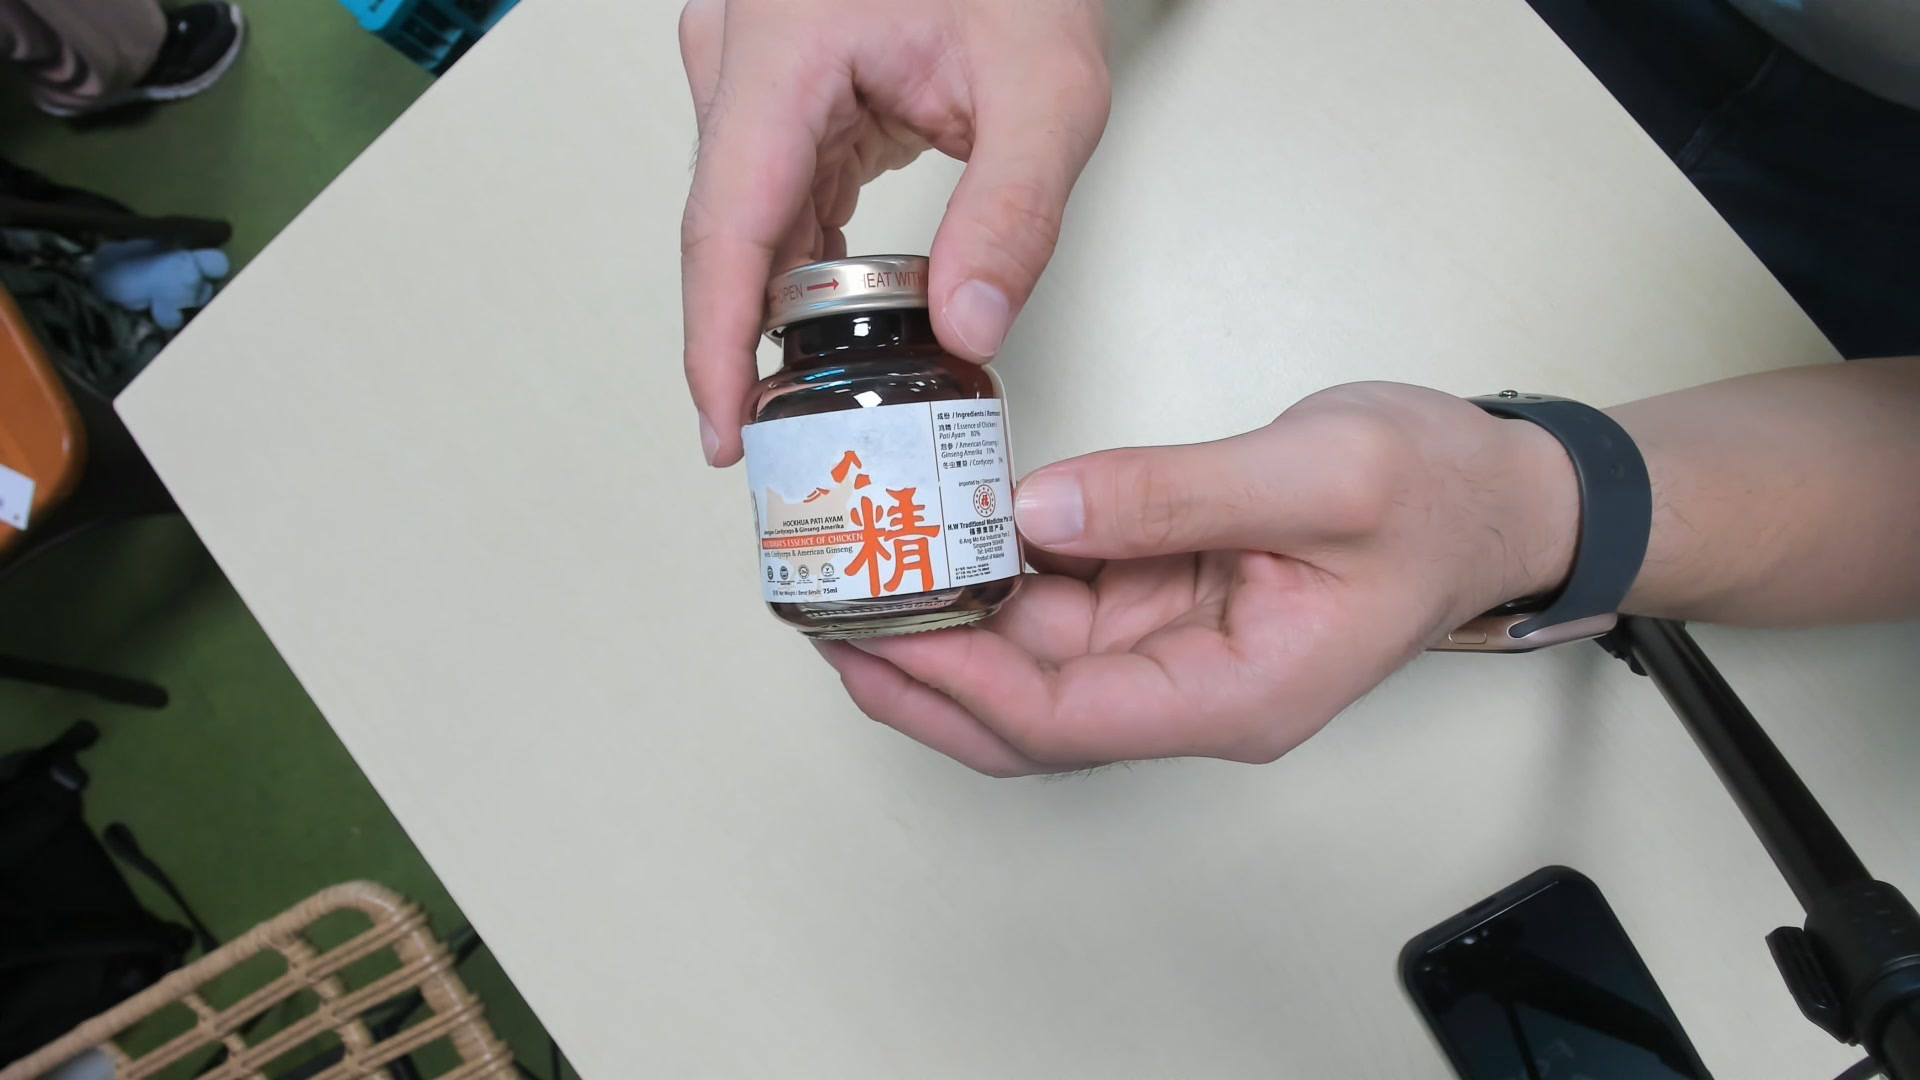OtherSauceDressing_0-99g_NonHalal_NonHealthy: (735, 252, 1036, 651)
